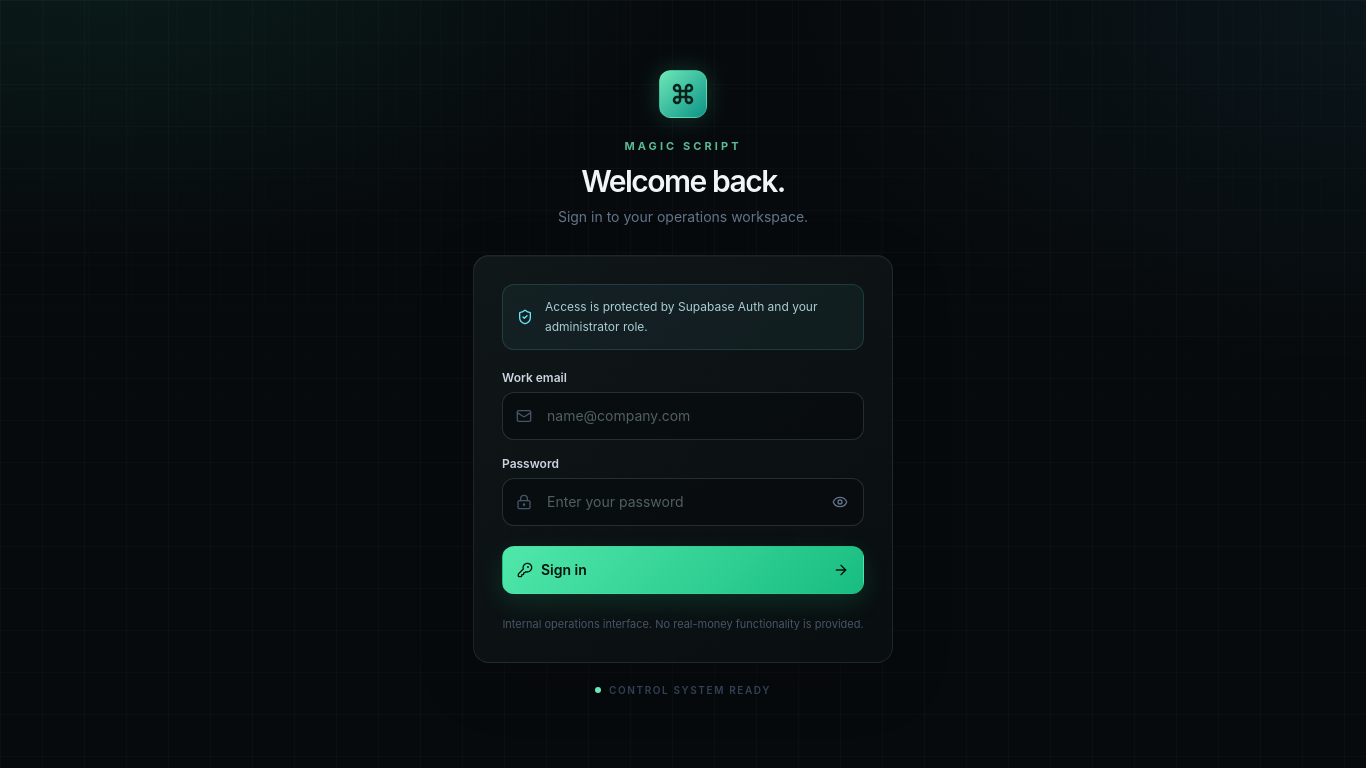
Test: Supabase Auth sign-in screen › requires a password even when the email is valid
Type "operator@example.com" into the field labelled "Work email" at [683, 416], box [502,392,864,440]
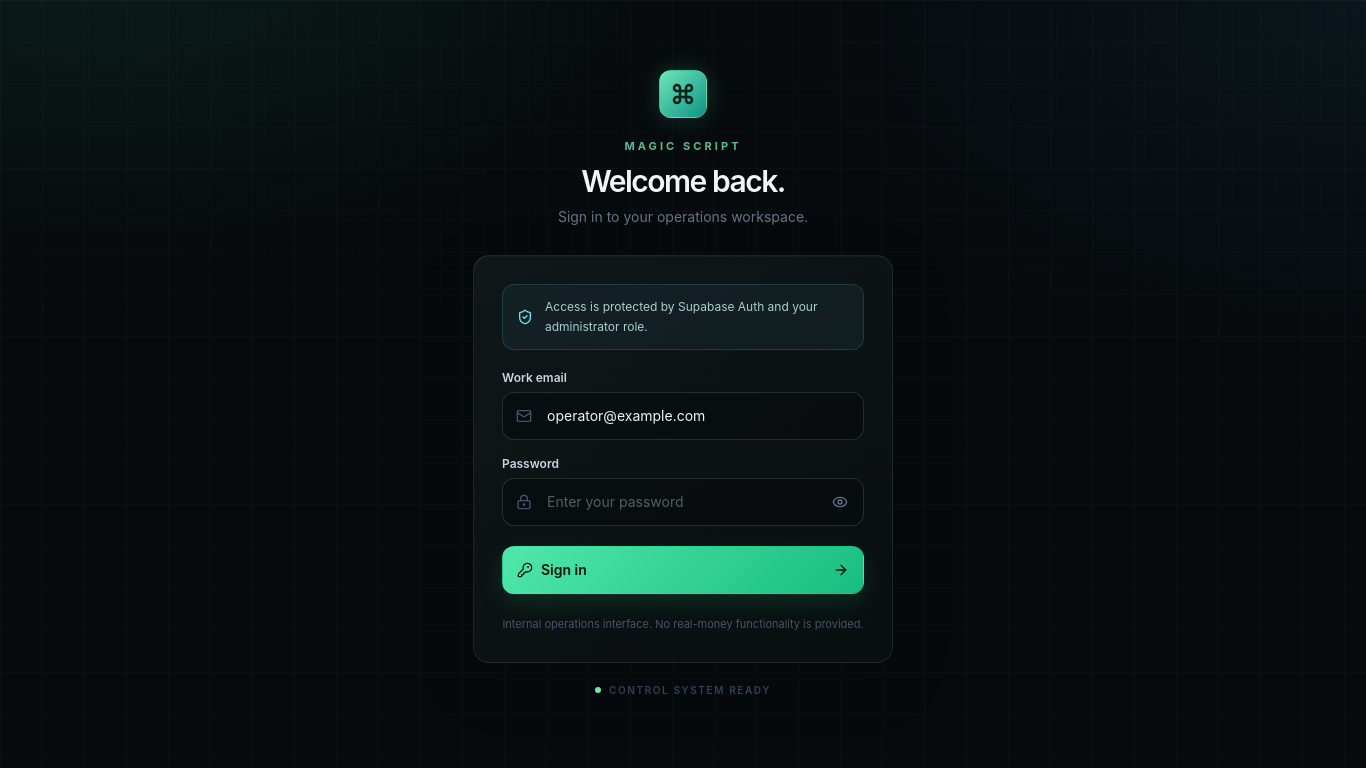
Click the button with aria-label "login" at [564, 569], box [502,546,864,594]
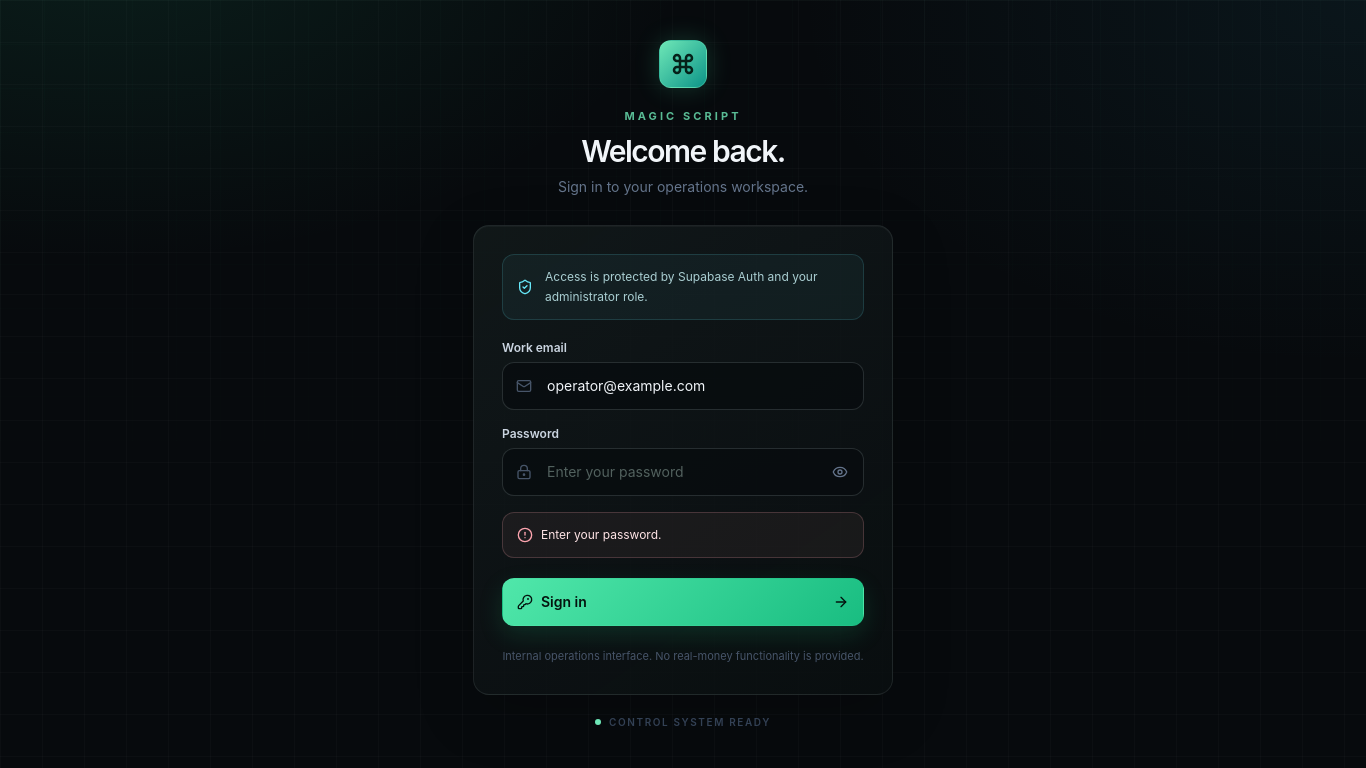
Expected: the message reads "Enter your password.", [541,526,662,542]
